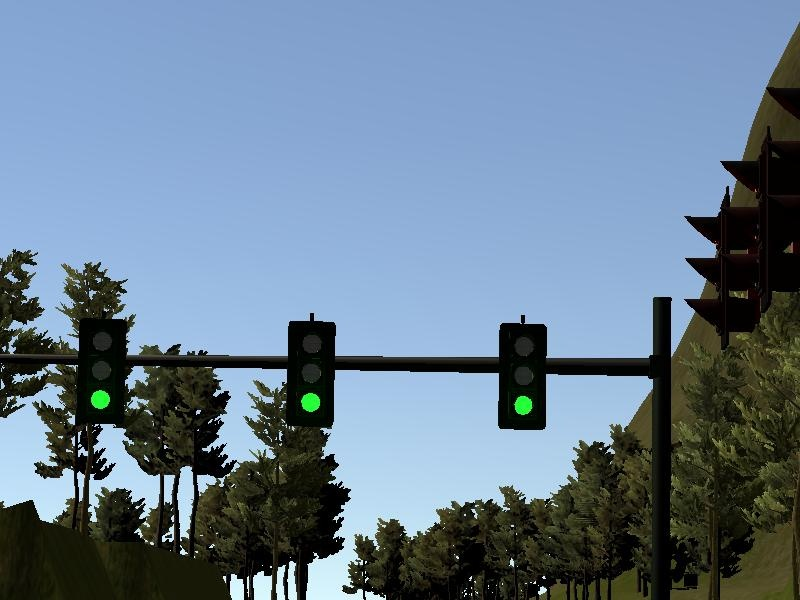green: (77, 319, 127, 424), (287, 320, 335, 429), (497, 324, 546, 430)
